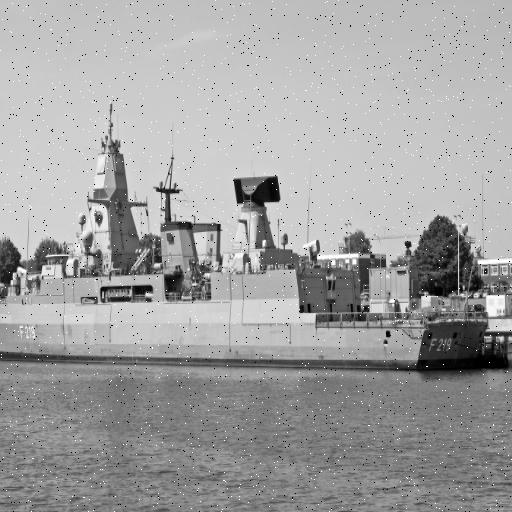Fragata: (1, 90, 490, 368)
